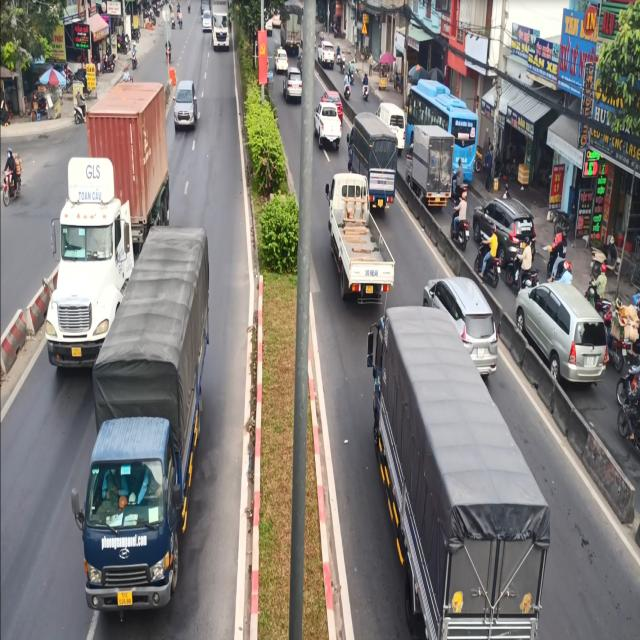bus: (172, 75, 198, 143)
motor: (1, 134, 22, 217)
truck: (367, 310, 548, 640), (81, 227, 218, 618), (327, 170, 393, 304)
